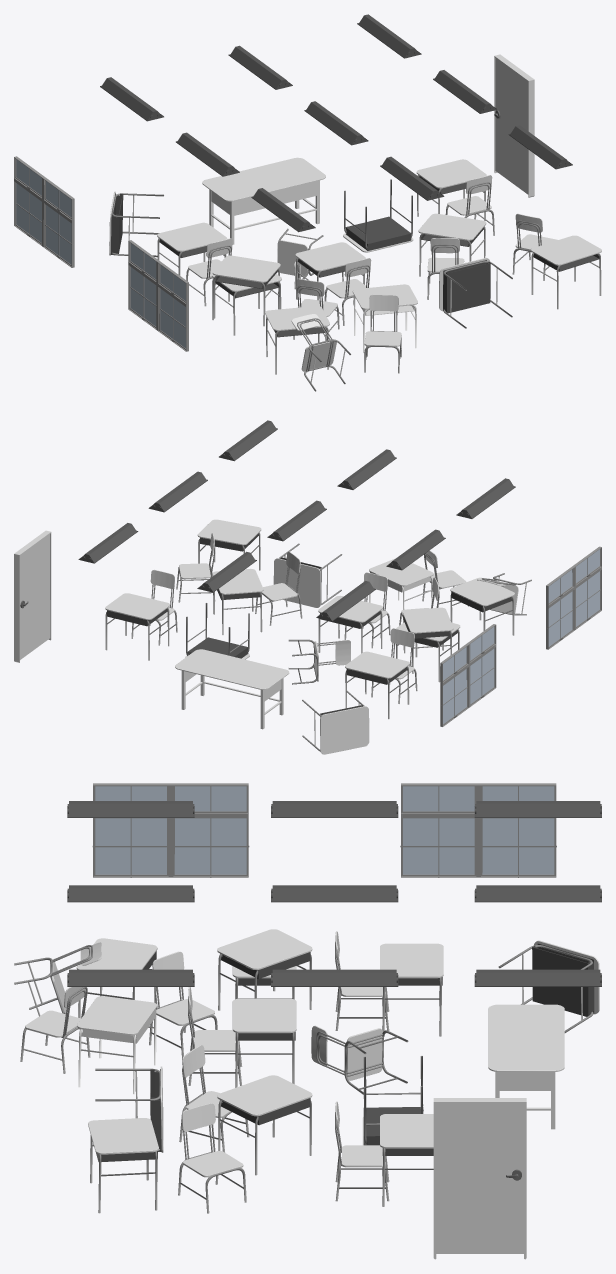
The model's file is комнатушка.fbx.
The picture shows the model from 3 angles, top to bottom: view 1: azimuth 30°, elevation 25°; view 2: azimuth 150°, elevation 25°; view 3: azimuth 270°, elevation 25°; orthographic projection. The views are drawn at different scales.
Visible parts, largest first — view 1: Cubo.009, Cubo.005, Cubo.004, Cubo.008, Cubo.006, Mesa_Aula.002, Mesa_Aula.006, Mesa_Aula.011, Mesa_Aula.005, Mesa_Aula.004, Mesa_Aula.008, Mesa_Aula.003 (+15 smaller); view 2: Cubo.009, Cubo.008, Cubo.004, Cubo.005, Cubo.006, Mesa_Aula.010, Mesa_Aula.012, Mesa_Aula.002, Mesa_Aula.008, Mesa_Aula.009, Mesa_Aula.006, Mesa_Aula.005 (+14 smaller); view 3: Cubo.009, Cubo.008, Cubo.006, Cubo.004, Cubo.005, Mesa_Aula.004, Mesa_Aula.001, Mesa_Aula.005, Mesa_Aula.006, Mesa_Aula.010, Mesa_Aula.003, Mesa_Aula.008 (+14 smaller).
Boxes of the visible parts, box(x1,y1,x2,y2) form: Cubo.009: box(100, 14, 572, 232); Cubo.005: box(202, 157, 325, 244); Cubo.004: box(128, 240, 188, 351); Cubo.008: box(14, 156, 74, 267); Cubo.006: box(495, 58, 528, 194); Mesa_Aula.002: box(439, 257, 512, 328); Mesa_Aula.006: box(531, 235, 601, 309); Mesa_Aula.011: box(343, 179, 413, 252); Mesa_Aula.005: box(212, 255, 280, 326); Mesa_Aula.004: box(418, 213, 486, 276); Mesa_Aula.008: box(157, 222, 227, 275); Mesa_Aula.003: box(295, 242, 365, 300); Cubo.009: box(78, 420, 515, 621); Cubo.008: box(440, 624, 496, 726); Cubo.004: box(546, 546, 601, 649); Cubo.005: box(175, 649, 289, 729); Cubo.006: box(20, 534, 50, 659); Mesa_Aula.010: box(302, 690, 369, 754); Mesa_Aula.012: box(105, 593, 169, 660); Mesa_Aula.002: box(273, 543, 342, 607); Mesa_Aula.008: box(345, 651, 409, 719); Mesa_Aula.009: box(450, 577, 514, 635); Mesa_Aula.006: box(197, 519, 261, 570); Mesa_Aula.005: box(402, 607, 453, 673); Cubo.009: box(67, 801, 601, 986); Cubo.008: box(400, 783, 556, 877); Cubo.006: box(436, 1104, 523, 1253); Cubo.004: box(92, 783, 249, 877); Cubo.005: box(488, 1004, 564, 1129); Mesa_Aula.004: box(217, 1075, 312, 1175); Mesa_Aula.001: box(77, 996, 157, 1094); Mesa_Aula.005: box(217, 929, 312, 1010); Mesa_Aula.006: box(88, 1118, 158, 1213); Mesa_Aula.010: box(498, 940, 599, 1032); Mesa_Aula.003: box(232, 998, 296, 1087); Mesa_Aula.008: box(380, 943, 443, 1036).
Bounding box in the file's own units: 14023 × 4583 × 11175.
